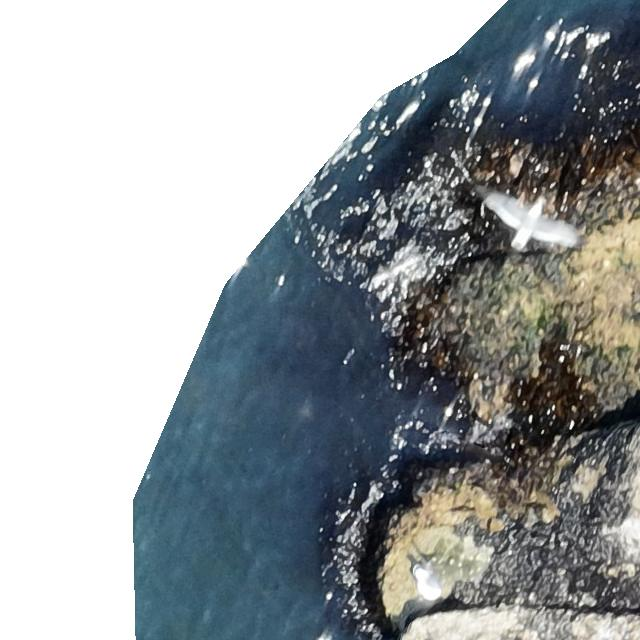F: (474, 190, 576, 250)
umineko: (418, 565, 442, 601)
